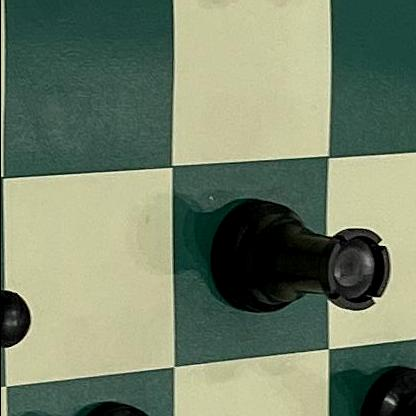black-pawn: (0, 236, 50, 381)
black-rook: (198, 181, 410, 331)
